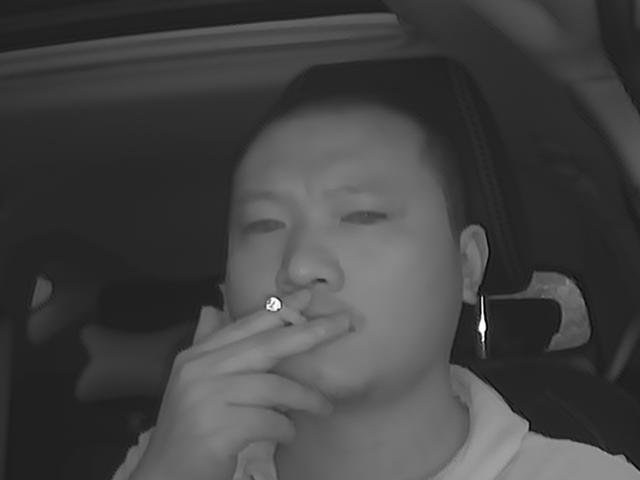hand: (188, 284, 347, 459)
